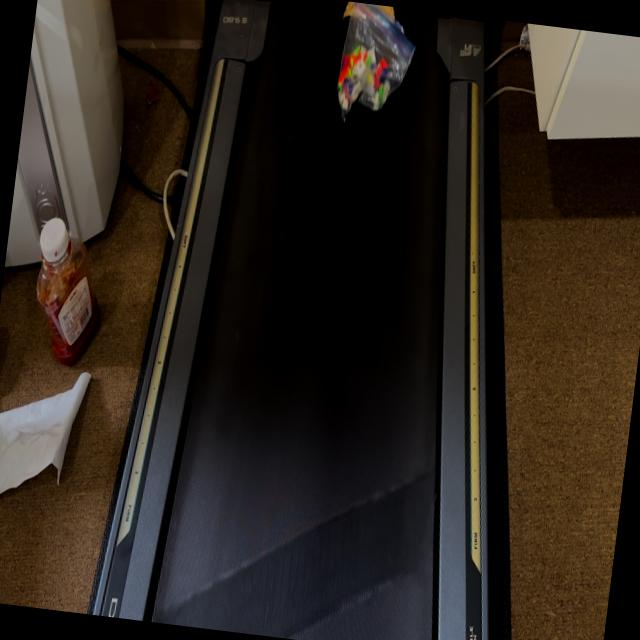Trash: (316, 2, 443, 148)
